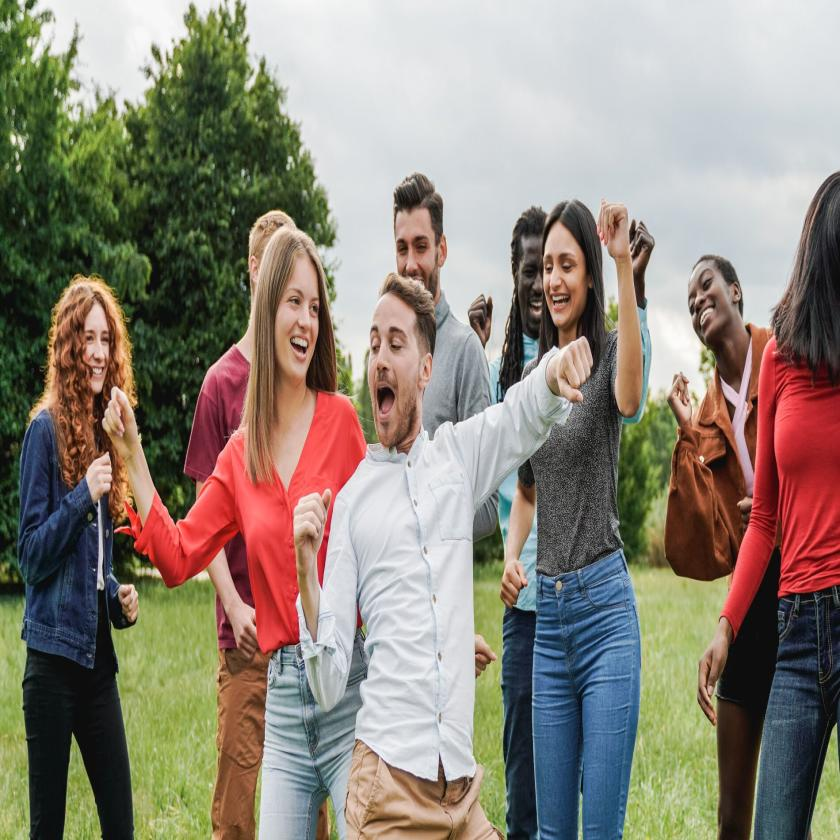Sin_casco: (41, 280, 128, 443), (366, 268, 436, 457), (253, 222, 330, 389), (540, 192, 603, 339), (391, 169, 448, 306), (683, 242, 743, 369)
